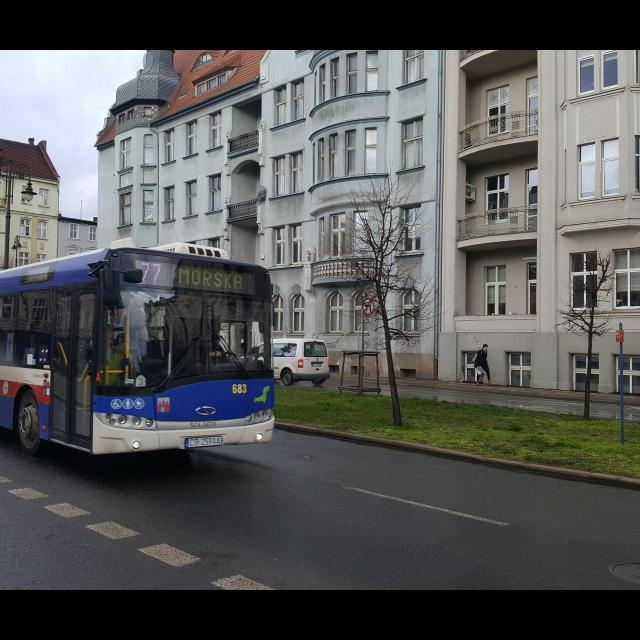Bus: (0, 246, 274, 455)
Tree: (560, 250, 616, 419)
